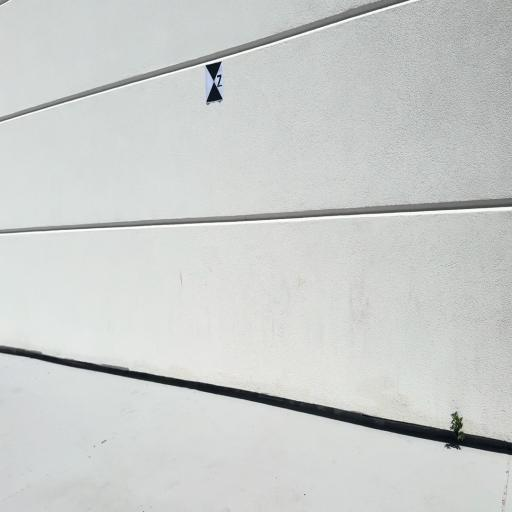target7: (205, 60, 224, 104)
